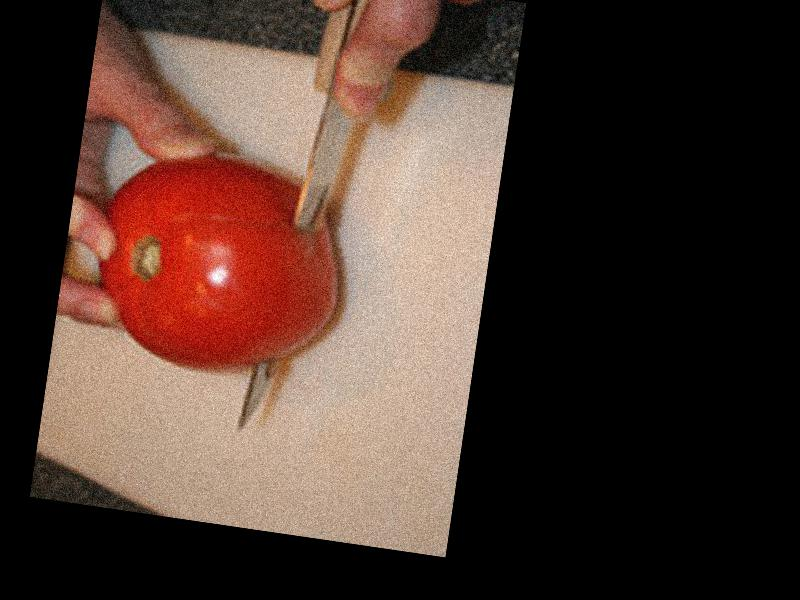Tomato: (83, 142, 353, 390)
